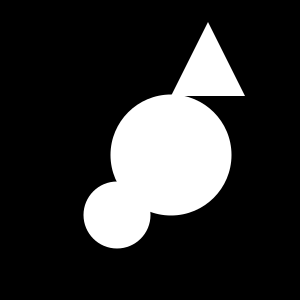rectangle: (110, 95, 231, 216), (84, 182, 150, 248)
triangle: (171, 22, 245, 96)
